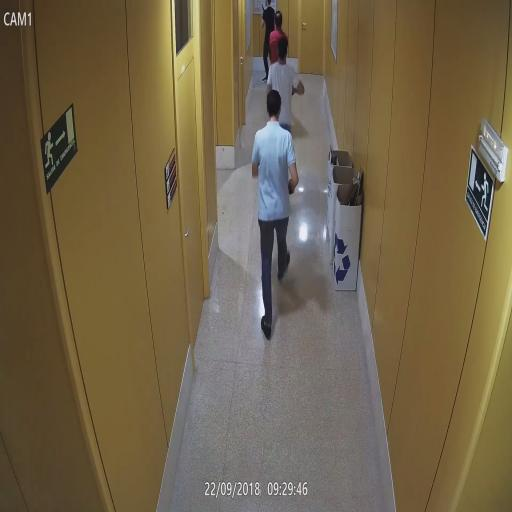Handgun: (259, 2, 266, 16)
